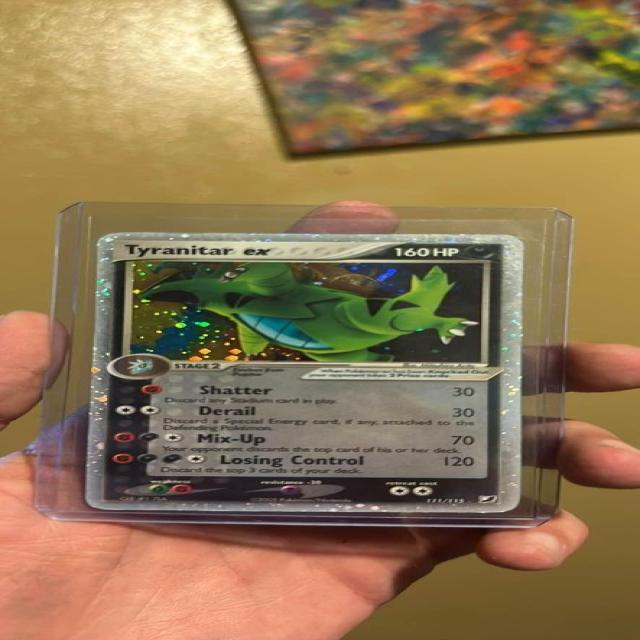card: (82, 231, 527, 514)
